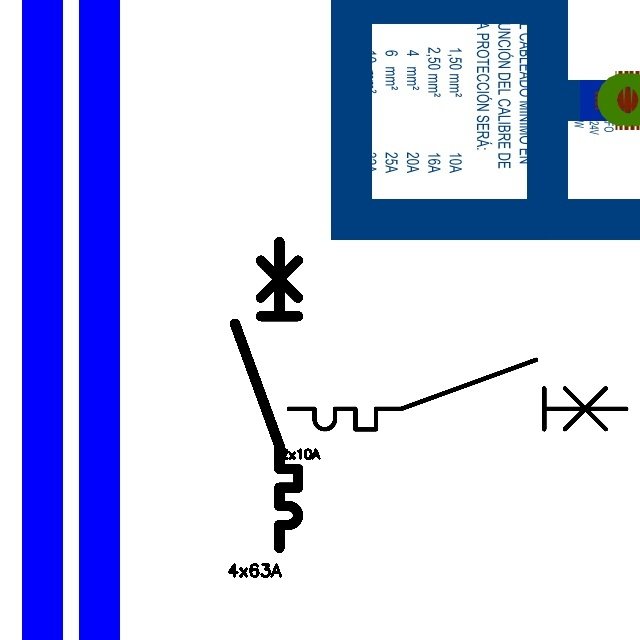interruptor_termomagnetico: (280, 351, 635, 438), (227, 234, 306, 556)
